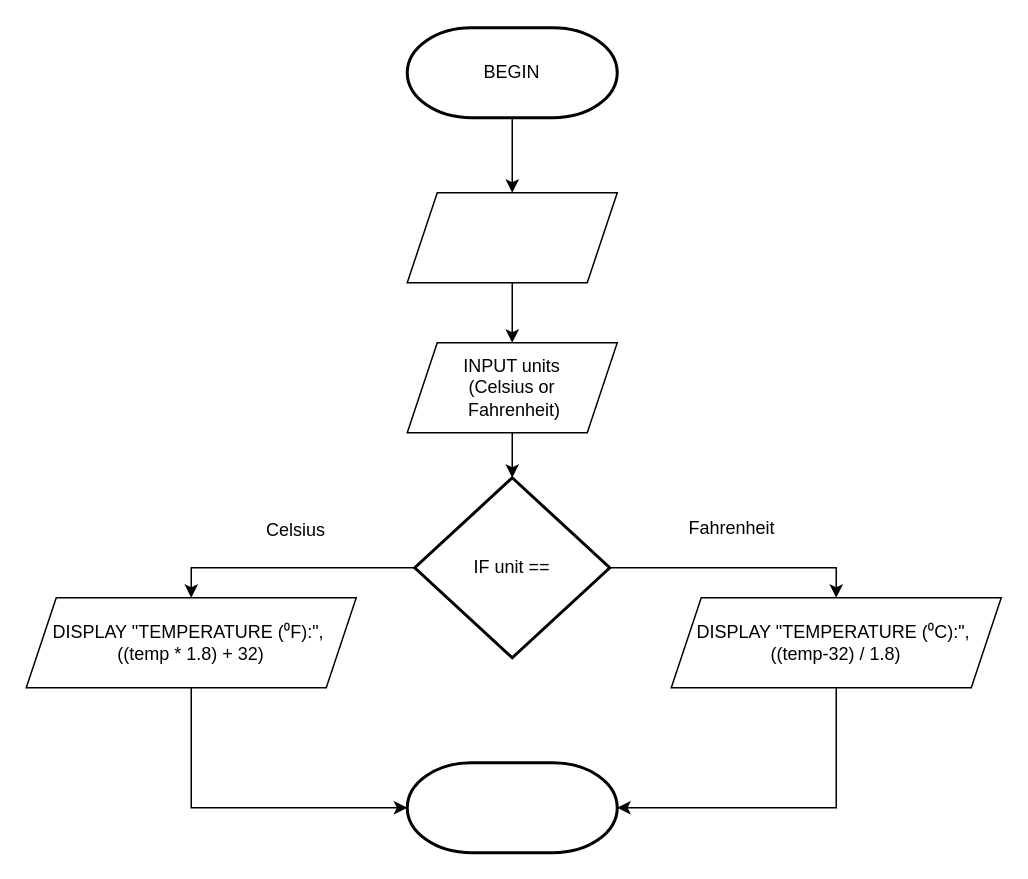
This 1028x879 diagram has some shape labels left out. The centre of each missing label's shape, as x and y in pixels:
END: the point at 511,807
INPUT int temperature: the point at 511,237
